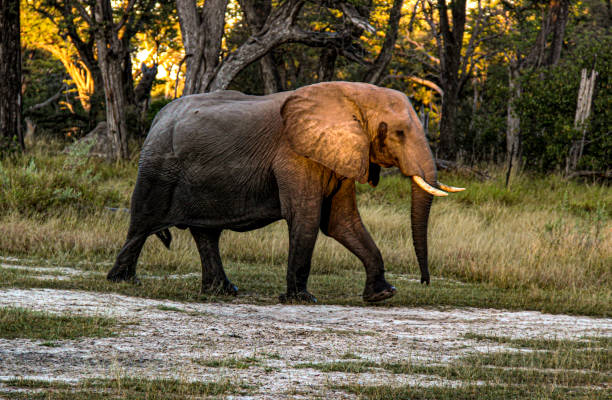africanelephant: (307, 88, 464, 215)
